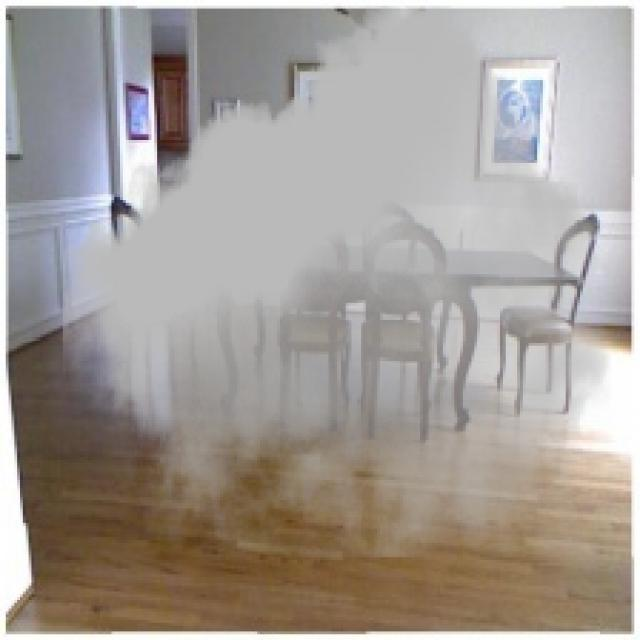Smoke: (63, 5, 612, 558)
